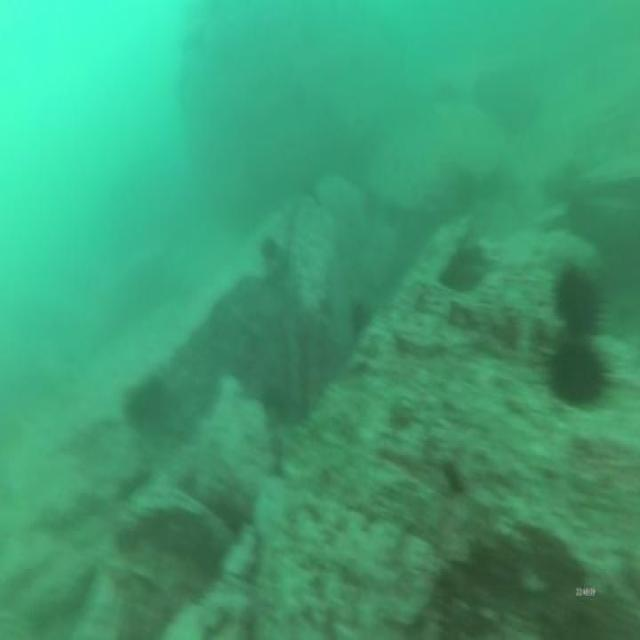echinus: (545, 335, 611, 412), (550, 257, 606, 343), (122, 372, 177, 436), (347, 297, 376, 343), (257, 229, 281, 270)
